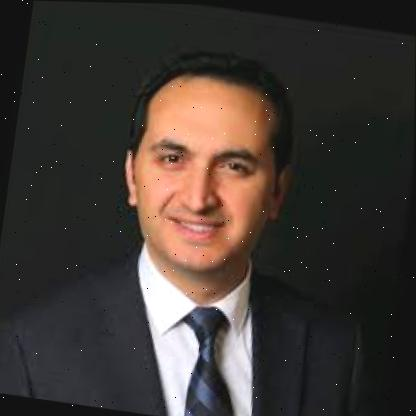person: (100, 47, 297, 285)
